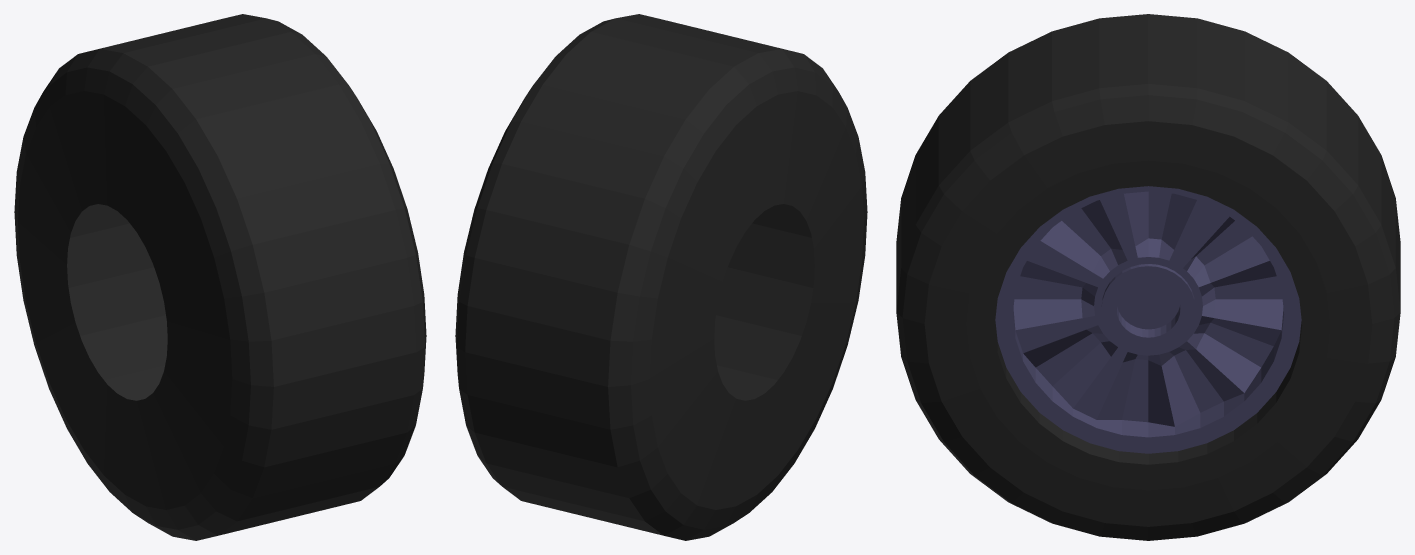
The model's file is roda.fbx.
The picture shows the model from 3 angles, left to right: view 1: azimuth 30°, elevation 25°; view 2: azimuth 150°, elevation 25°; view 3: azimuth 270°, elevation 25°; orthographic projection.
Parts seen in each view (by area): view 1: Roda; view 2: Roda; view 3: Roda.
Part boxes in pixels (x1,y1,x2,y2): Roda: [14, 14, 426, 540]; Roda: [455, 14, 867, 540]; Roda: [896, 14, 1400, 540].
Bounding box in the file's own units: 14.53 × 31.65 × 31.65.
